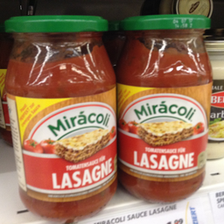tomato_sauce: (4, 15, 119, 220), (116, 14, 214, 203)
